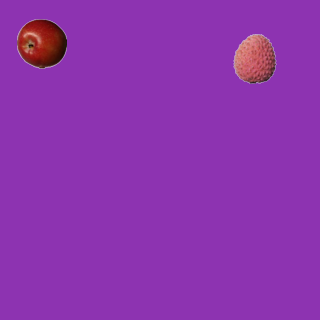Apple Braeburn: (16, 18, 66, 68)
Lychee: (229, 33, 279, 83)
